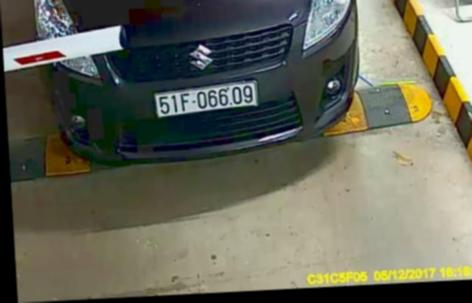License_Plate: (152, 81, 260, 120)
